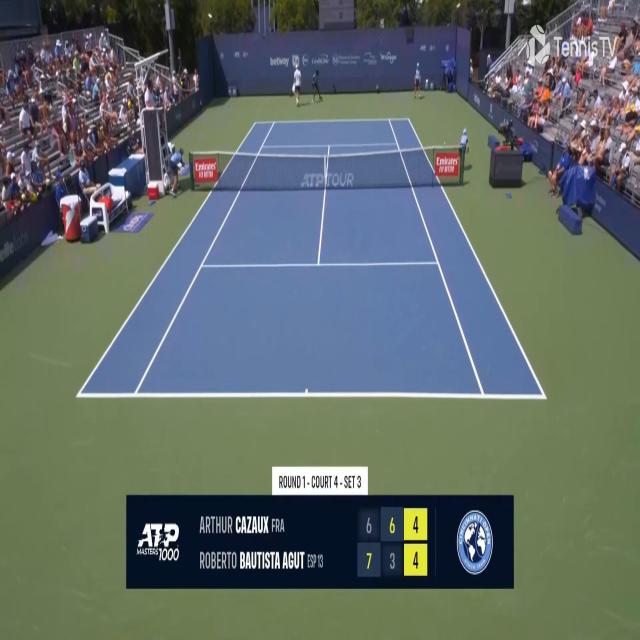tennis-player: (289, 66, 302, 108)
